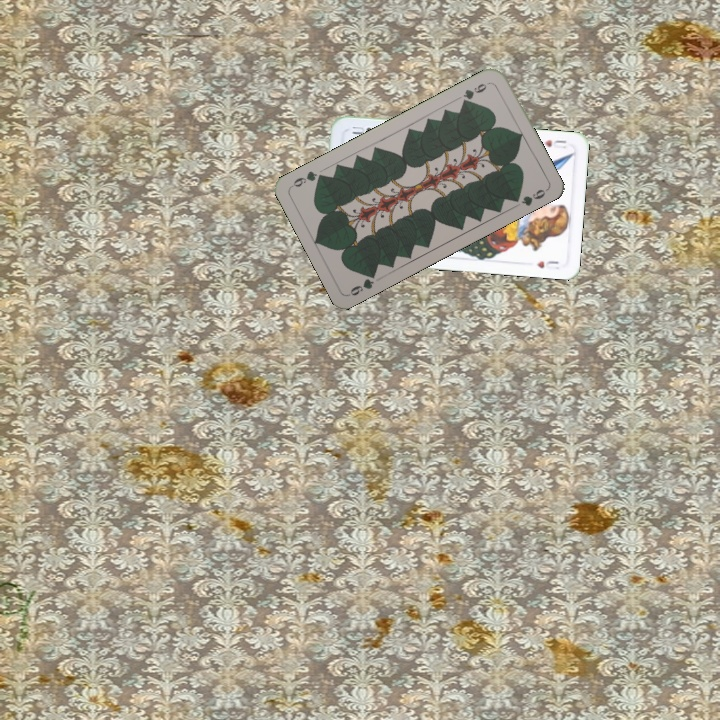G9: (345, 267, 379, 298), (458, 78, 493, 106)
HU: (540, 135, 570, 151)
